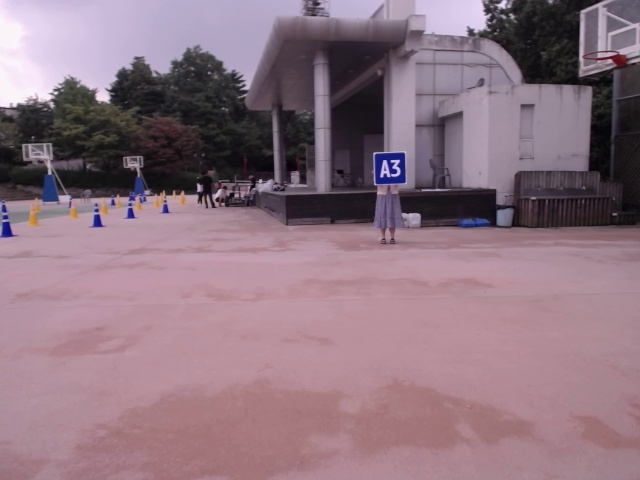delivery_a3: (374, 152, 407, 185)
